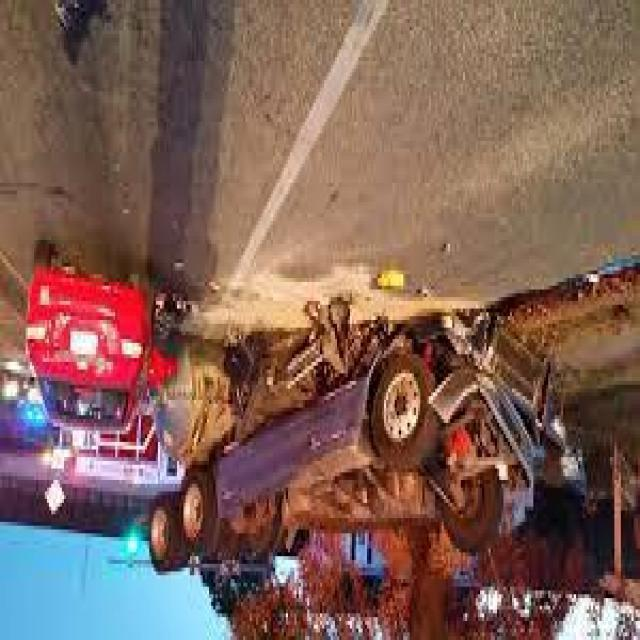severe: (137, 308, 552, 594)
